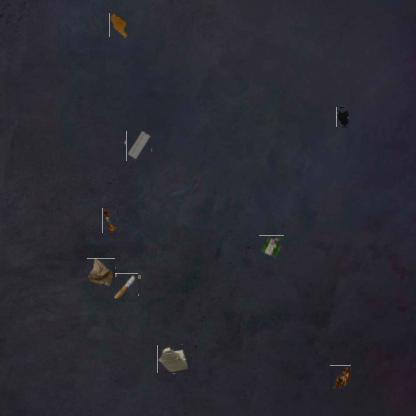dirty: (158, 345, 188, 374), (87, 259, 116, 287), (113, 274, 140, 301), (125, 133, 152, 160), (259, 235, 284, 261), (330, 365, 352, 390), (102, 207, 117, 233)
liquid: (109, 13, 128, 38), (336, 107, 349, 128)
